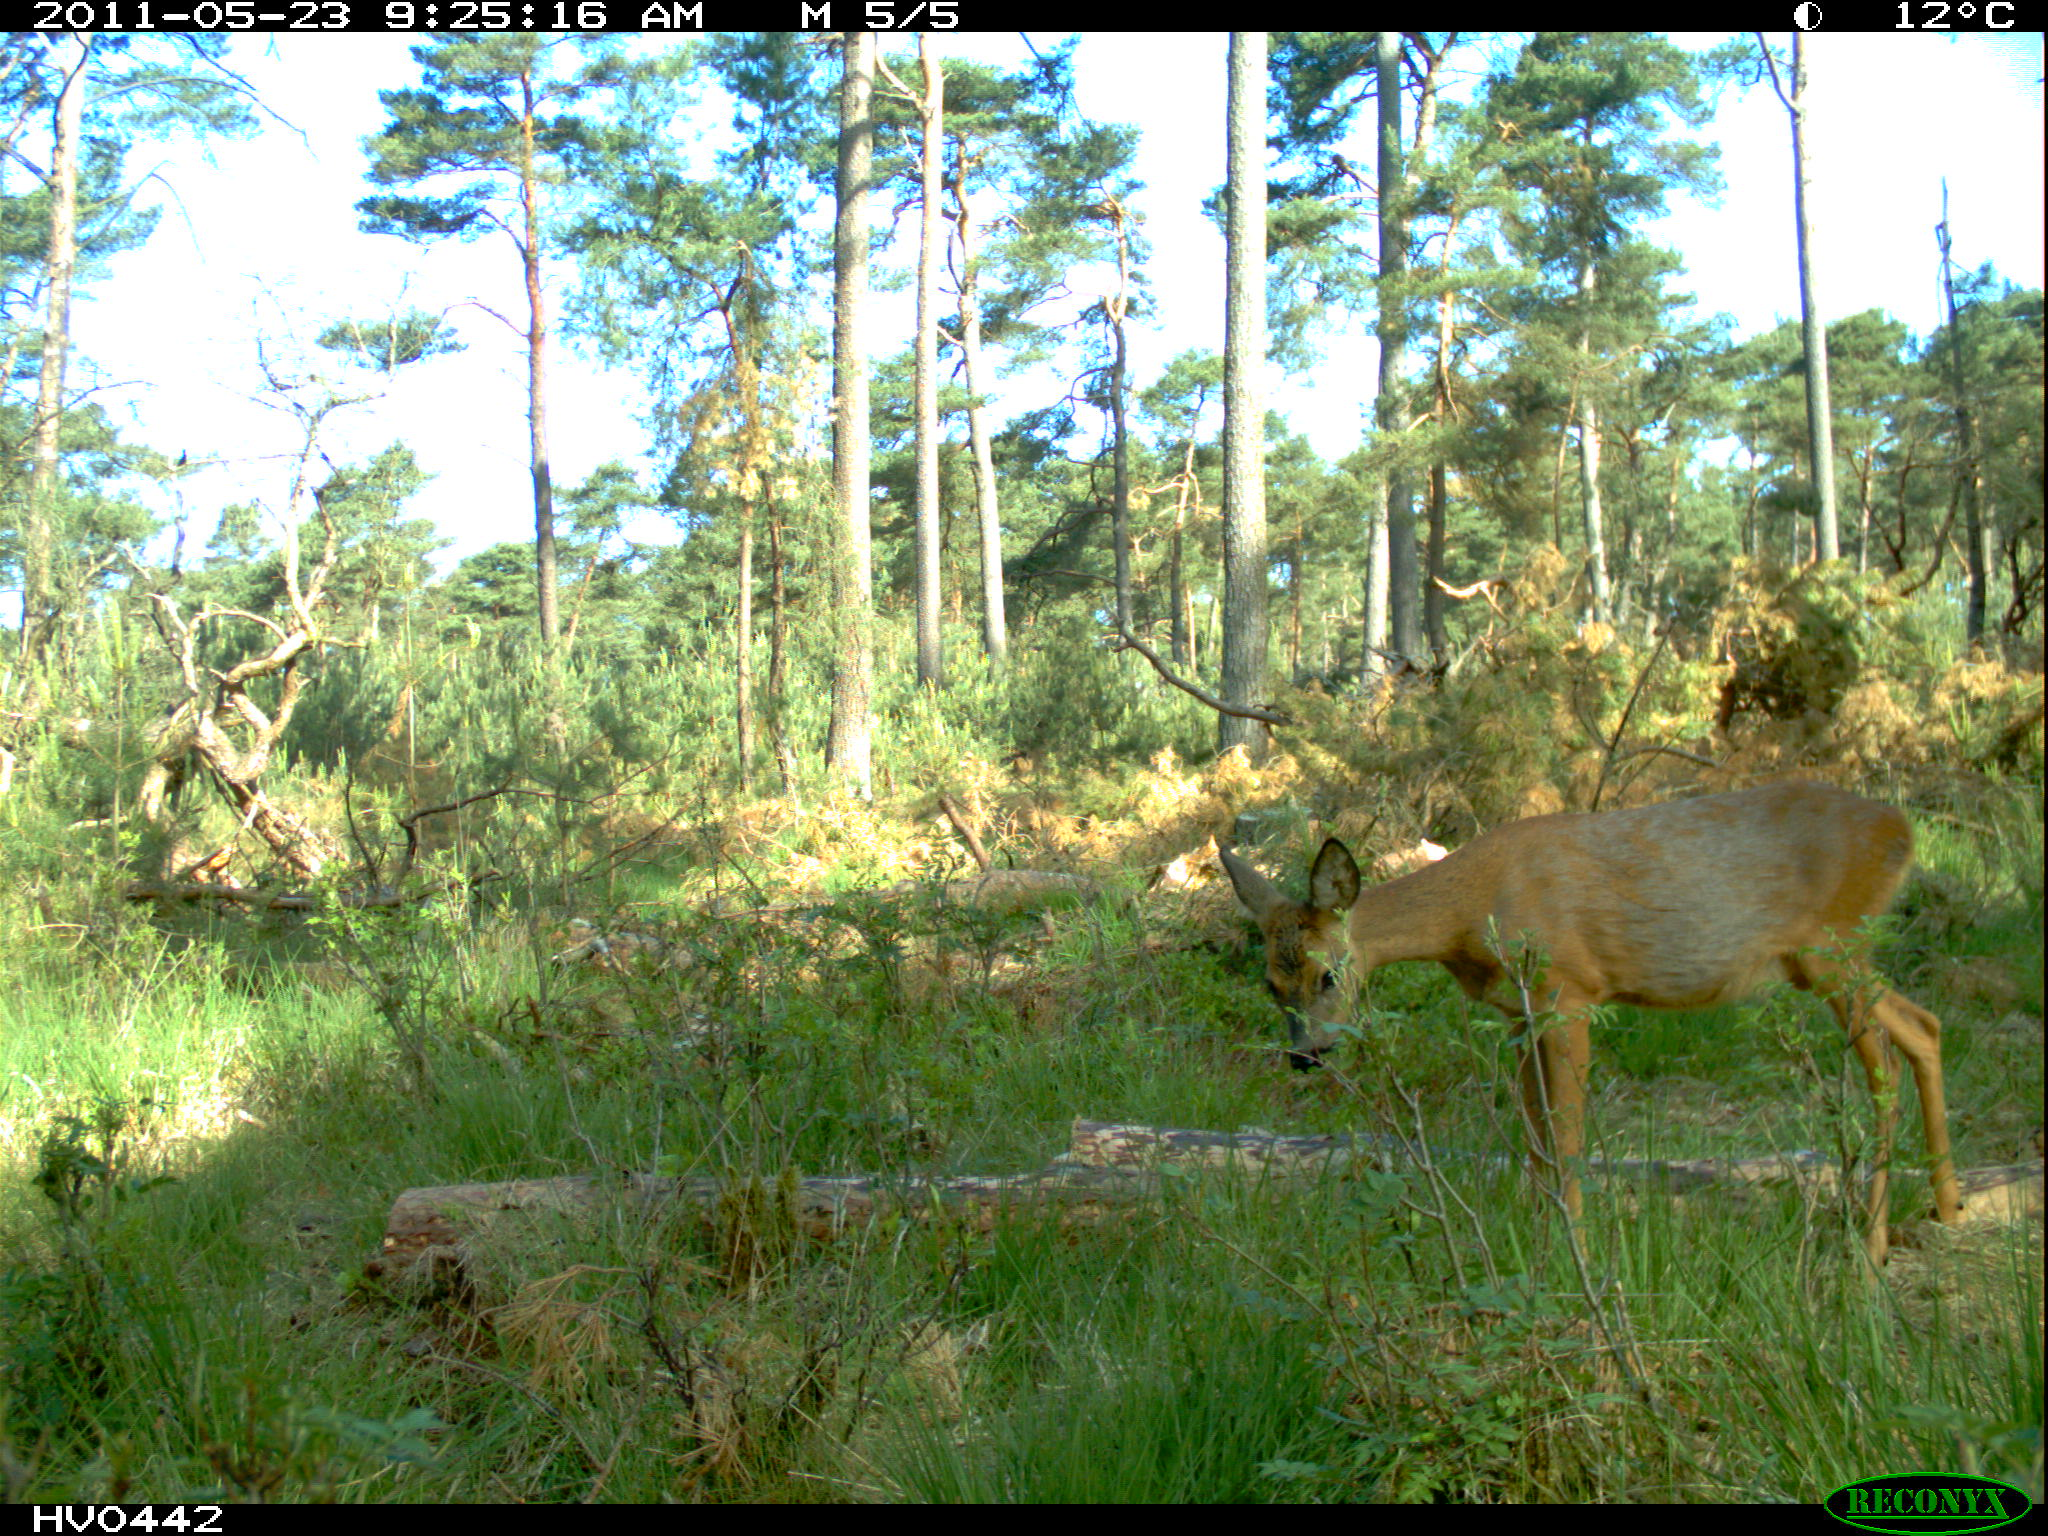Deer: (1216, 768, 1972, 1275)
